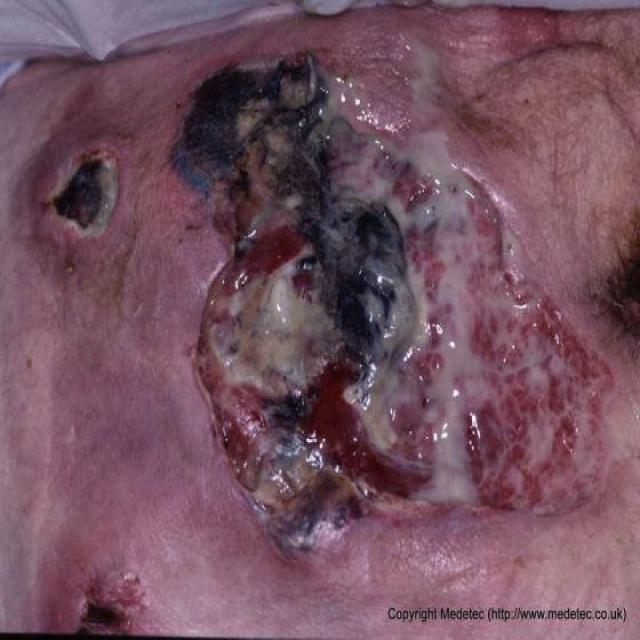Unstageable: (171, 54, 609, 551), (46, 149, 118, 236), (81, 572, 144, 636)
